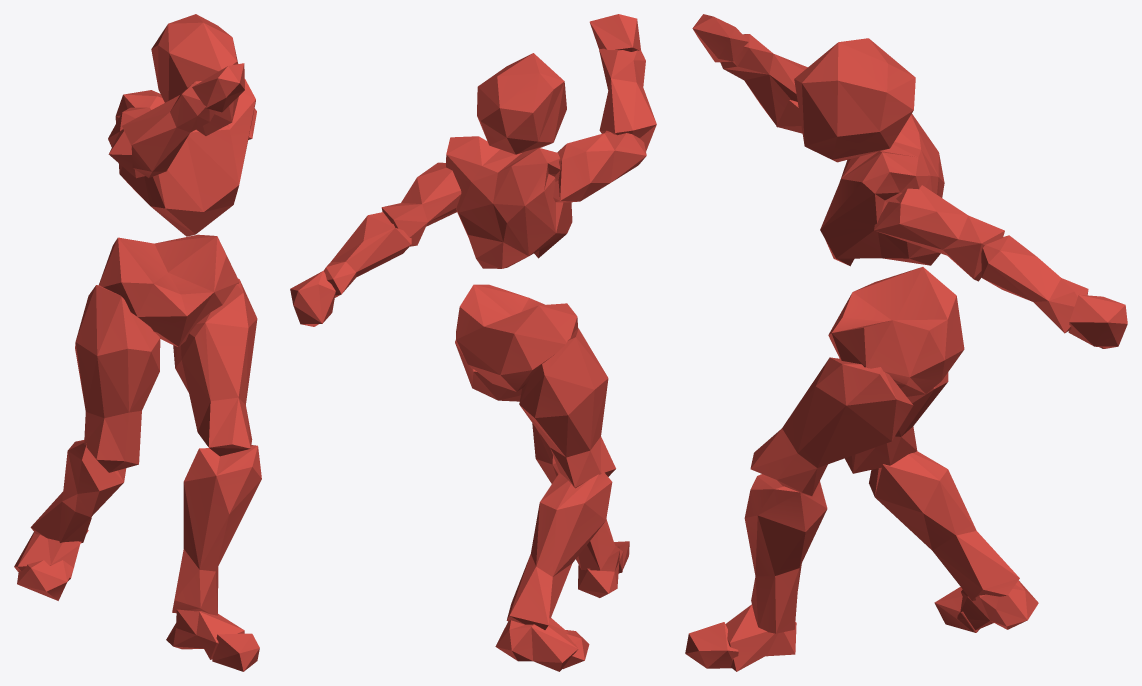
File: 2dancer0173.obj
The picture shows the model from 3 angles, left to right: view 1: azimuth 30°, elevation 25°; view 2: azimuth 150°, elevation 25°; view 3: azimuth 270°, elevation 25°; orthographic projection. The views are drawn at different scales.
Visible parts, largest first — view 1: Beta_Surface; view 2: Beta_Surface; view 3: Beta_Surface.
Part boxes in pixels (box(x1,y1,x2,y2)): Beta_Surface: box(14, 14, 261, 671); Beta_Surface: box(290, 14, 656, 671); Beta_Surface: box(685, 14, 1127, 671).
Bounding box in the file's own units: 0.7923 × 1.77 × 1.1.
